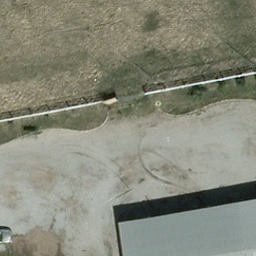car: (0, 227, 15, 249)
